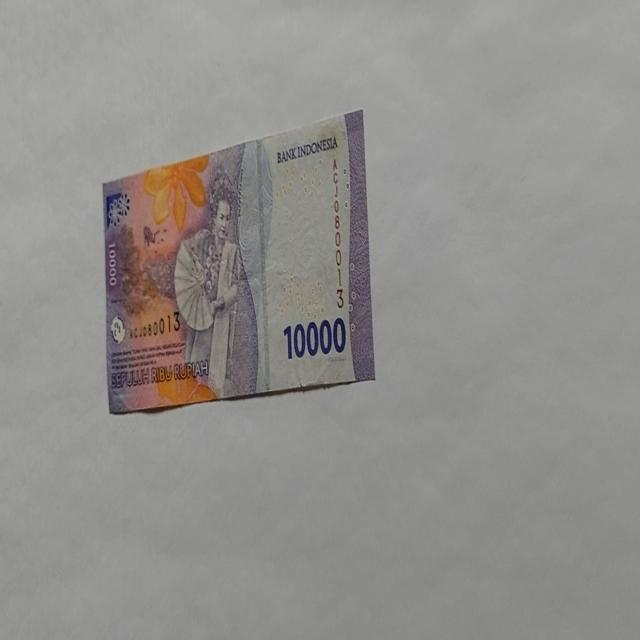sepuluh ribu rupiah: (102, 107, 376, 416), (274, 134, 338, 164)
